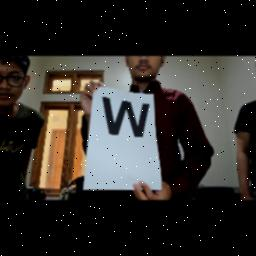w: (96, 93, 156, 143)
